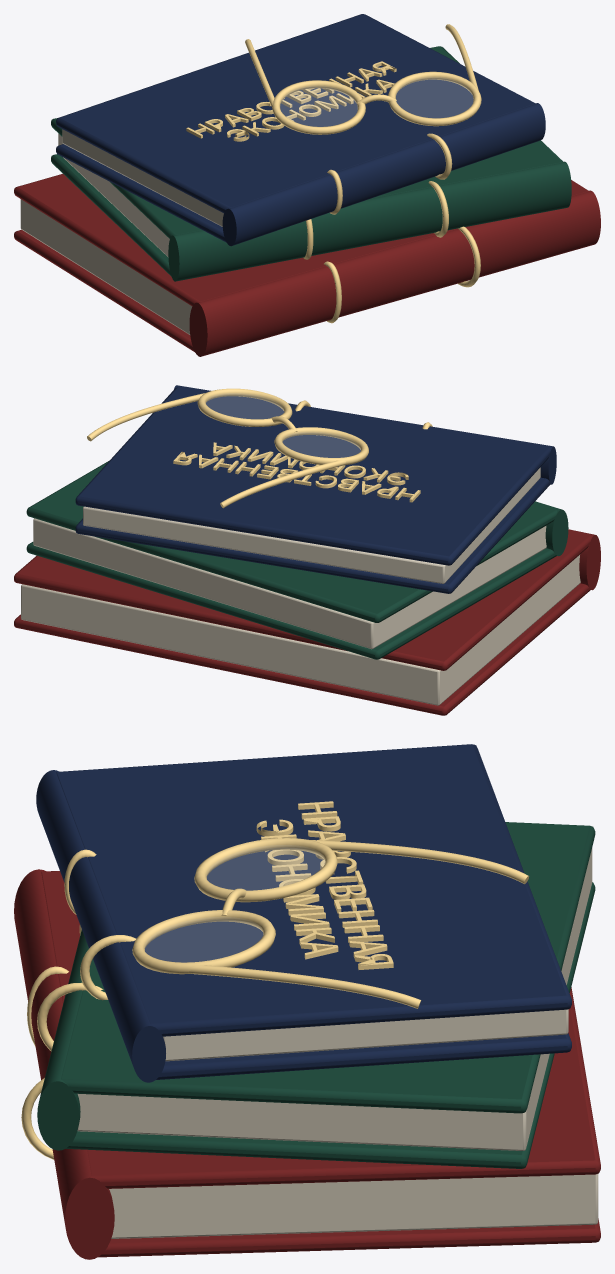
Rendered from books.glb.
The picture shows the model from 3 angles, top to bottom: view 1: azimuth 30°, elevation 25°; view 2: azimuth 150°, elevation 25°; view 3: azimuth 270°, elevation 25°; orthographic projection. The views are drawn at different scales.
Visible parts, largest first — view 1: b3_top, b1_spine, b2_spine, b3_spine, b1_top, b1_pages, b2_top, title, b1_bot, lens, lens.001, b3_pages (+8 smaller); view 2: b3_top, b1_pages, b2_pages, b1_top, b2_top, b3_pages, b1_bot, b2_bot, b3_bot, title, lensrim.001, lensrim (+7 smaller); view 3: b3_top, b2_top, b1_pages, b1_top, b2_pages, b3_pages, b2_bot, b3_spine, b1_spine, b1_bot, title, b3_bot (+10 smaller).
Part boxes in pixels (bbox=[...]): b3_top: bbox=[56, 14, 535, 213]; b1_spine: bbox=[189, 190, 600, 356]; b2_spine: bbox=[168, 161, 571, 281]; b3_spine: bbox=[222, 103, 545, 246]; b1_top: bbox=[14, 174, 588, 307]; b1_pages: bbox=[20, 199, 192, 334]; b2_top: bbox=[51, 46, 563, 238]; title: bbox=[186, 61, 396, 141]; b1_bot: bbox=[14, 229, 197, 352]; lens: bbox=[280, 87, 357, 126]; lens.001: bbox=[396, 78, 473, 117]; b3_pages: bbox=[62, 129, 223, 226]; b3_top: bbox=[75, 387, 551, 565]; b1_pages: bbox=[21, 555, 580, 705]; b2_pages: bbox=[33, 518, 546, 649]; b1_top: bbox=[14, 531, 592, 670]; b2_top: bbox=[26, 461, 556, 622]; b3_pages: bbox=[83, 467, 540, 583]; b1_bot: bbox=[14, 583, 592, 715]; b2_bot: bbox=[26, 542, 556, 659]; b3_bot: bbox=[75, 477, 551, 593]; title: bbox=[173, 442, 420, 502]; lensrim.001: bbox=[197, 388, 292, 426]; lensrim: bbox=[274, 427, 368, 465]; b3_top: bbox=[56, 744, 571, 1036]; b2_top: bbox=[61, 822, 595, 1113]; b1_pages: bbox=[109, 1174, 598, 1238]; b1_top: bbox=[41, 871, 600, 1188]; b2_pages: bbox=[77, 848, 592, 1150]; b3_pages: bbox=[163, 1009, 568, 1061]; b2_bot: bbox=[61, 882, 595, 1168]; b3_spine: bbox=[36, 770, 165, 1082]; b1_spine: bbox=[14, 869, 114, 1259]; b1_bot: bbox=[92, 1218, 600, 1257]; title: bbox=[256, 801, 393, 969]; b3_bot: bbox=[152, 1033, 571, 1079].
Bounding box in the file's own units: 1.1 × 0.3911 × 0.8426.
